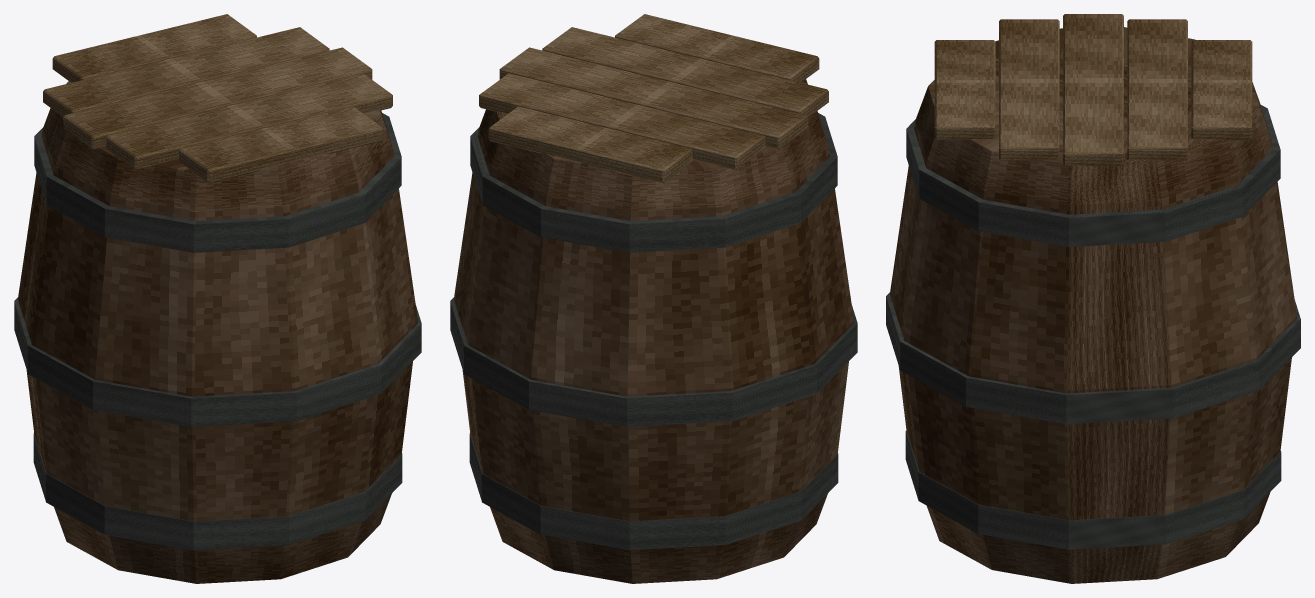
Rendered from barril.glb.
3 renders of one model, left to right at view 1: azimuth 30°, elevation 25°; view 2: azimuth 150°, elevation 25°; view 3: azimuth 270°, elevation 25°, orthographic.
Visible parts, largest first — view 1: barril_mesh; view 2: barril_mesh; view 3: barril_mesh.
Part boxes in pixels (<box>): barril_mesh: <box>14,14,421,583</box>; barril_mesh: <box>450,14,857,583</box>; barril_mesh: <box>886,14,1300,583</box>.
Size of the model in its own units: 0.6464 by 0.7415 by 0.6464.
3 materials, 3 textured.
